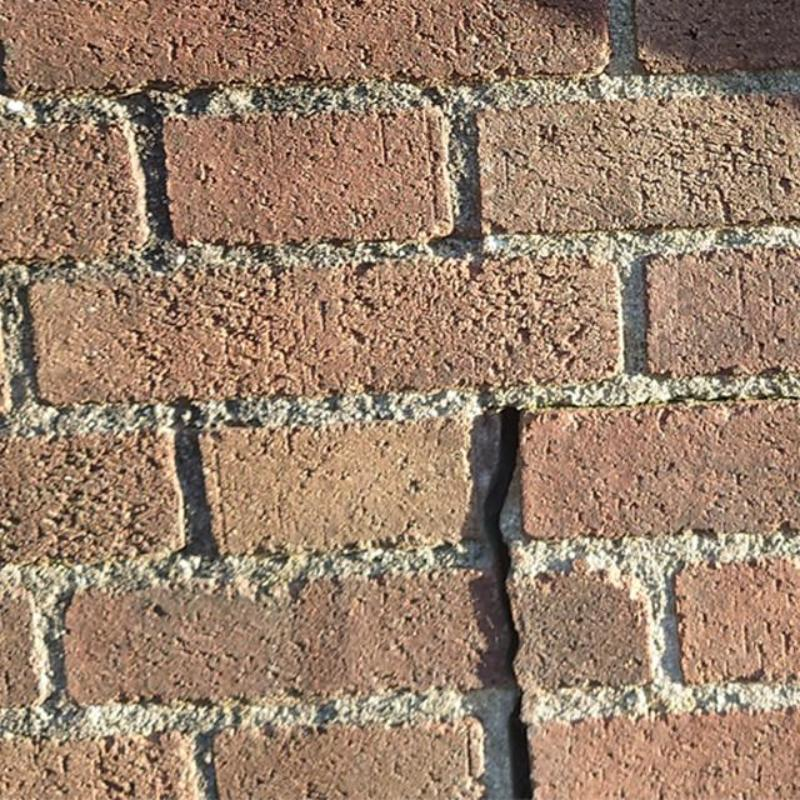crack: (484, 408, 530, 799)
